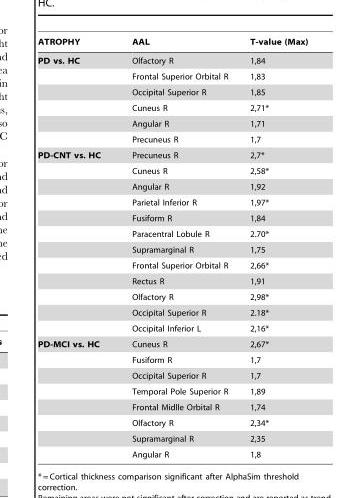table: (37, 37, 307, 458)
table column: (115, 37, 238, 458), (37, 37, 115, 458), (238, 37, 307, 458)
table column header: (37, 37, 307, 51)
table row: (37, 51, 307, 68), (37, 68, 307, 84), (37, 99, 307, 115), (37, 115, 307, 131), (37, 131, 307, 147), (37, 162, 307, 178), (37, 178, 307, 194), (37, 194, 307, 210), (37, 225, 307, 241), (37, 241, 307, 257), (37, 257, 307, 273), (37, 288, 307, 304), (37, 304, 307, 320), (37, 320, 307, 336), (37, 351, 307, 367), (37, 367, 307, 383), (37, 383, 307, 399), (37, 414, 307, 430), (37, 430, 307, 446), (37, 84, 307, 99), (37, 147, 307, 162), (37, 210, 307, 225), (37, 273, 307, 288), (37, 336, 307, 351), (37, 399, 307, 414), (37, 37, 307, 51), (37, 446, 307, 458)
table spanning cell: (37, 147, 115, 336), (37, 336, 115, 458), (37, 51, 115, 147)
